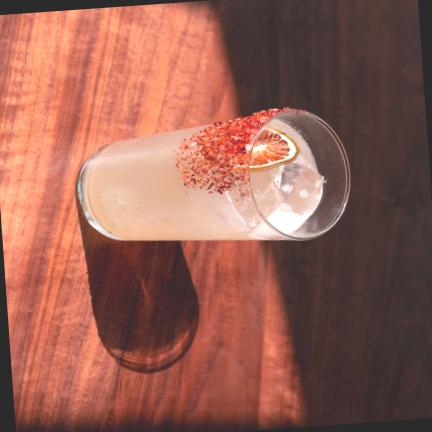container: (76, 108, 349, 240)
fluid: (84, 118, 257, 239)
fluid-surface: (223, 119, 317, 236)
